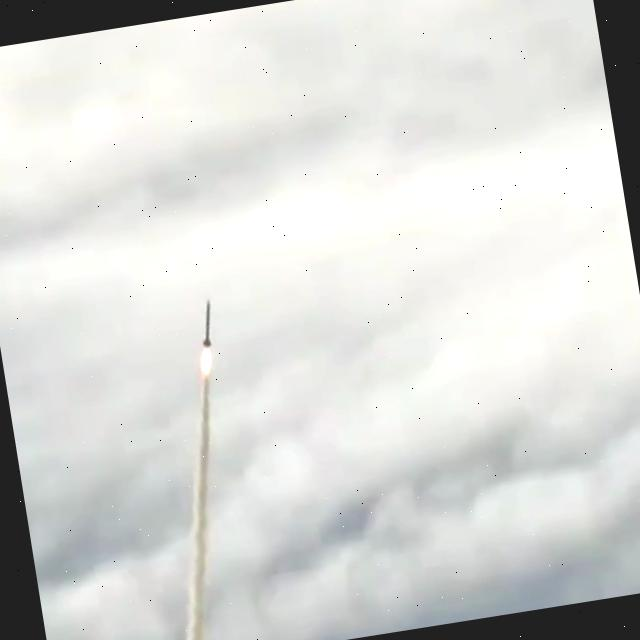rocket: (203, 300, 211, 346)
smoke_trail_with_rocket: (184, 301, 215, 640)
